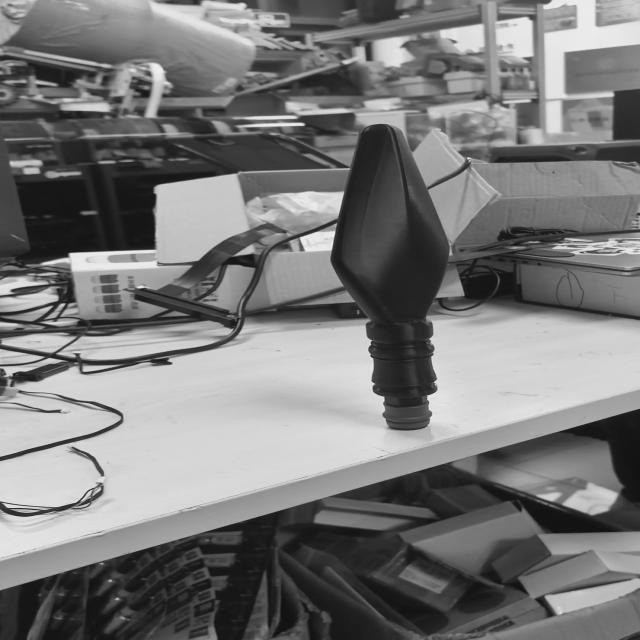base: (381, 399, 434, 430)
